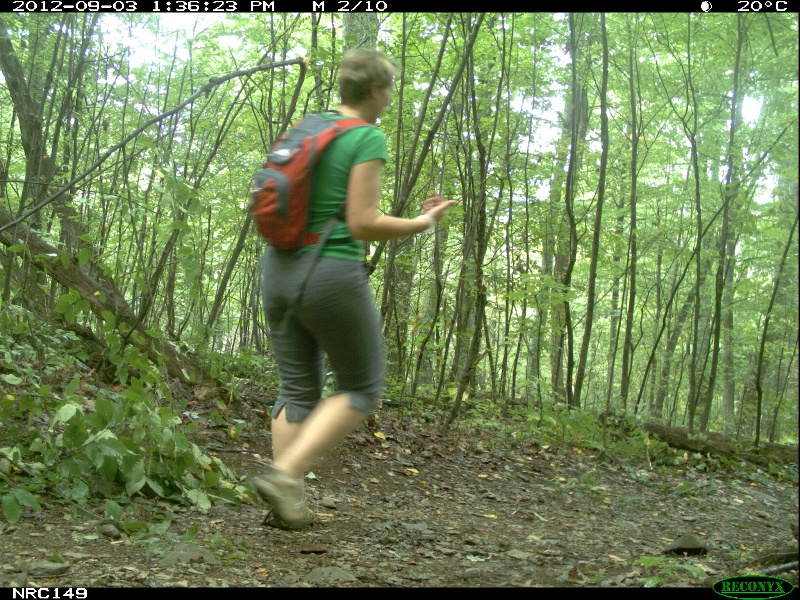human: (251, 50, 466, 544)
human face: (354, 72, 401, 125)
human legs: (250, 245, 390, 541)
